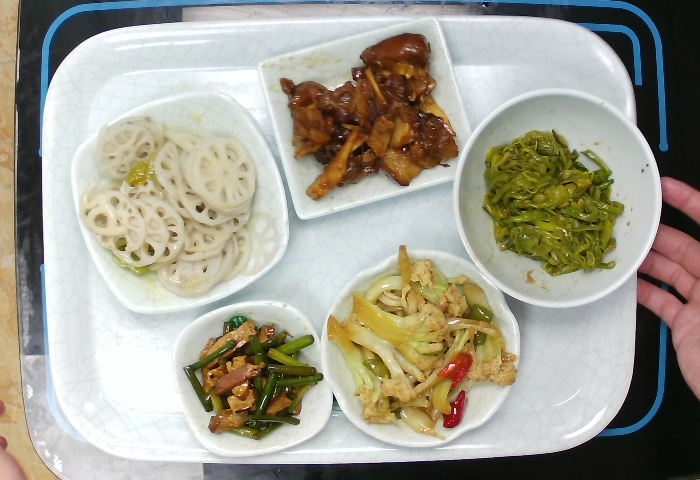JYsf-Ao_Yuan_Wan: (316, 243, 525, 453)
JYsf-Fan_Wan: (446, 82, 668, 310)
JYsf-Si_Fang_Die: (168, 295, 337, 463)
WCQzf-Da_Si_Fang_Die: (67, 85, 294, 319)
WCQzf-Ru_Ci_Si_Fang_Die: (253, 11, 481, 224)
